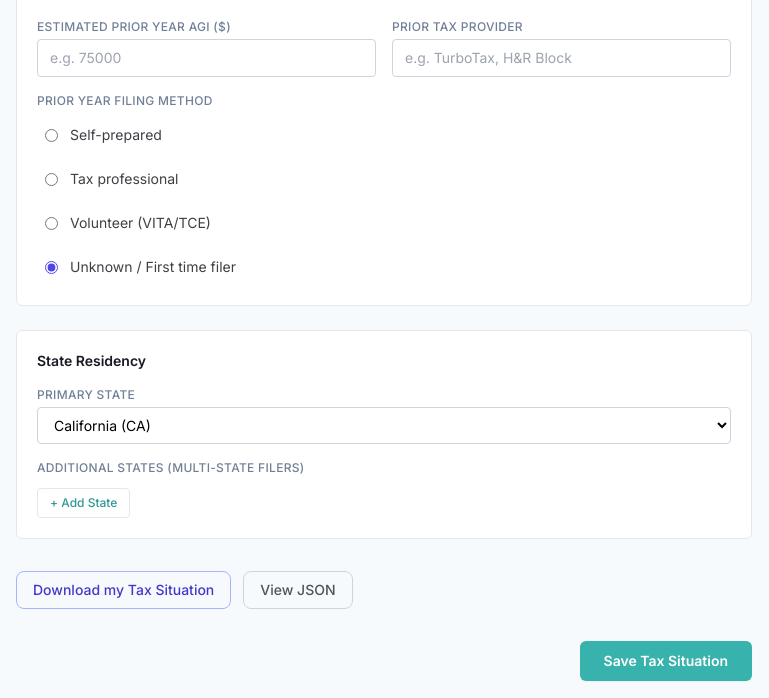
Test case: TaxSituationForm › JSON export › inline JSON panel contains filingStatus field
(page scrolled)
Click the button "View JSON": (298, 590) [243, 571, 352, 609]
(page scrolled)
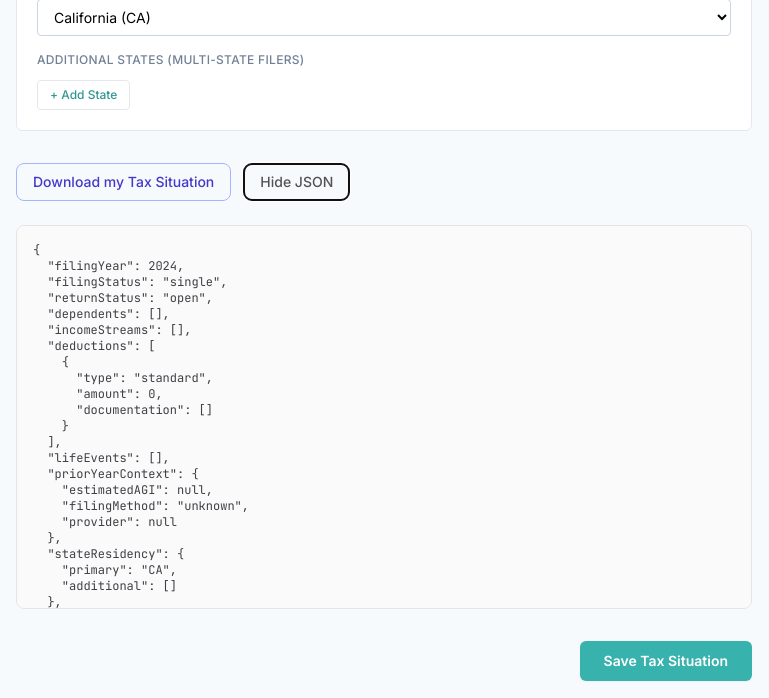
Expected: the element with id "json-panel" shows "filingStatus", [33, 242, 249, 642]
Expected: the element with id "json-panel" shows "single", [33, 242, 249, 642]
